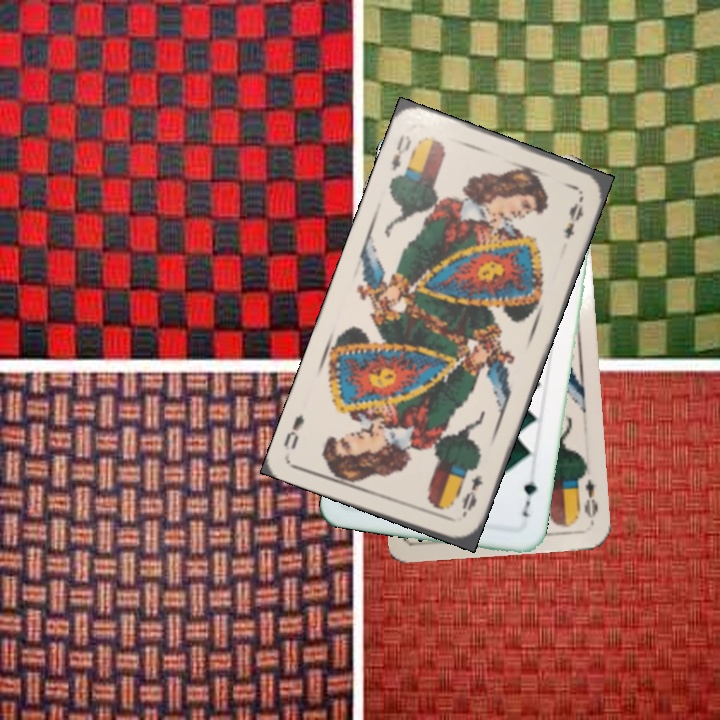EO: (457, 470, 486, 521), (387, 131, 414, 174), (580, 475, 601, 526)
G7: (518, 477, 539, 520)
